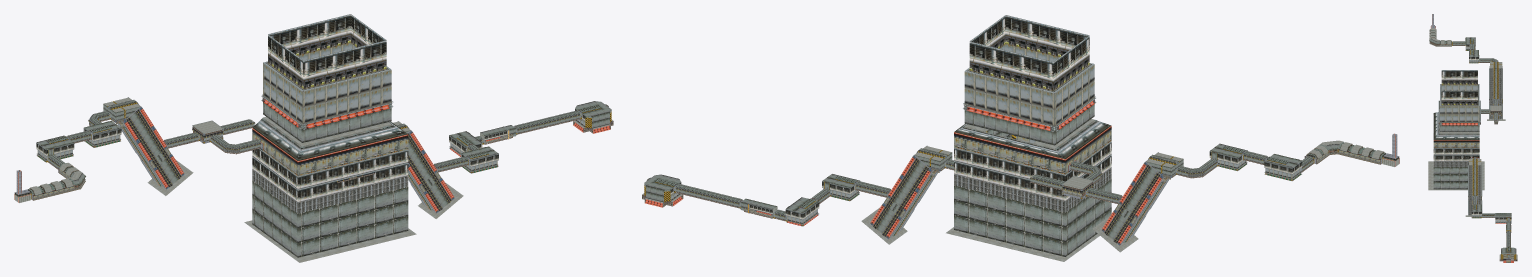
The model's file is IronGate.obj.
3 renders of one model, left to right at view 1: azimuth 30°, elevation 25°; view 2: azimuth 150°, elevation 25°; view 3: azimuth 270°, elevation 25°, orthographic. The views are drawn at different scales.
Bounding box in the file's own units: 6348 × 1950 × 1452.
35 materials, 35 textured.
